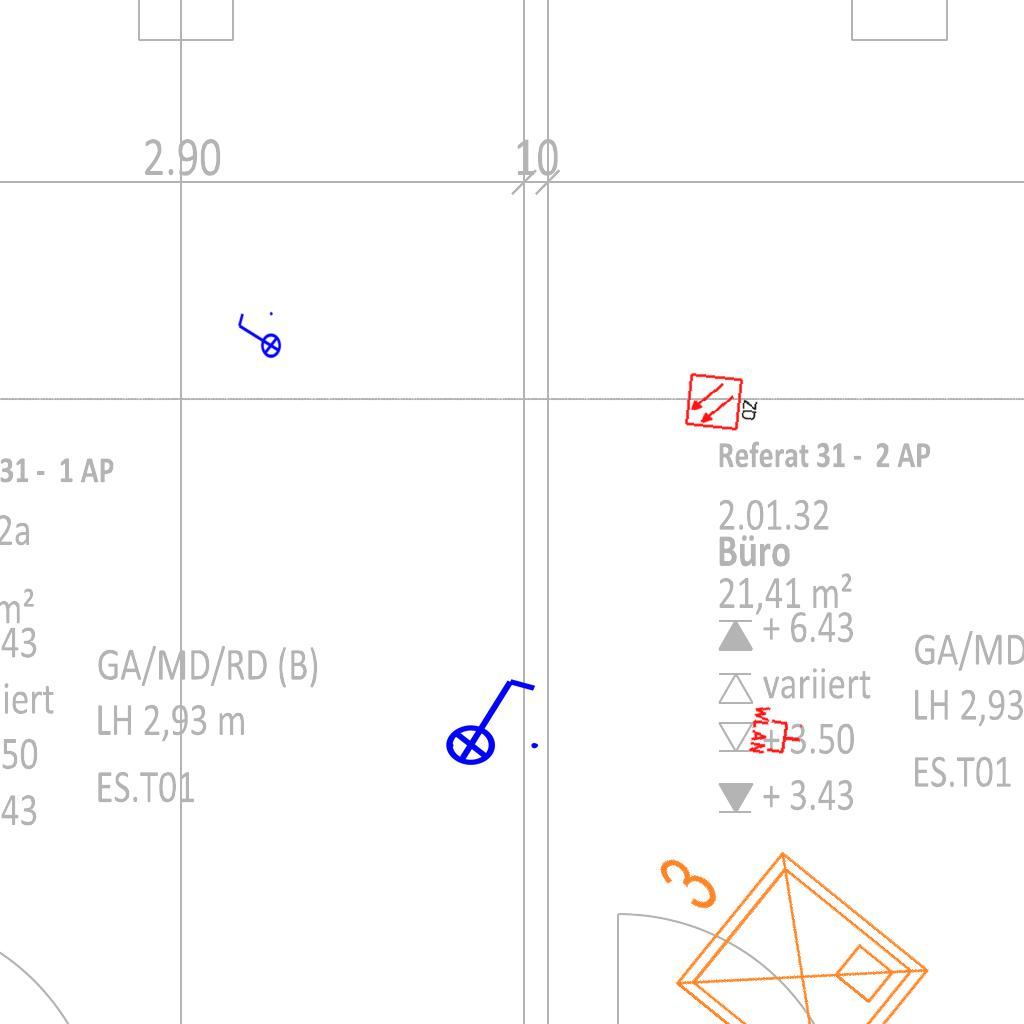Ausschalter_beleuchtet: (432, 671, 544, 767), (234, 309, 282, 365)
Einbaudownlights_LED_Konferenzraeume: (585, 778, 951, 1024)
WLAN: (747, 702, 807, 762)
ZD_Melder_in_Zwischendecke_mit_Revisionsoeffnung_mind_40_x_40_cm: (683, 369, 764, 435)
